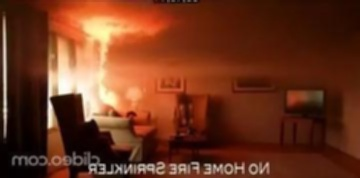fire: (53, 0, 163, 116)
